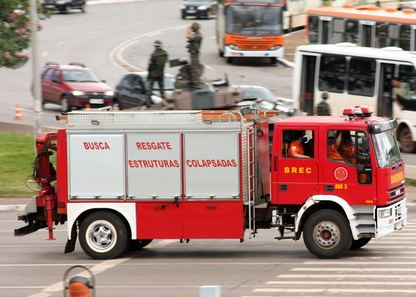bus: (292, 41, 416, 154), (303, 3, 416, 48), (213, 0, 288, 64)
car: (35, 61, 115, 111), (107, 68, 179, 108), (232, 84, 280, 115), (179, 0, 222, 21), (40, 0, 86, 13)
truck: (12, 102, 409, 259)
